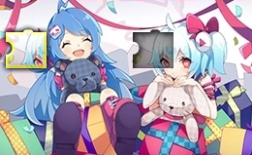gap: (133, 29, 173, 68)
